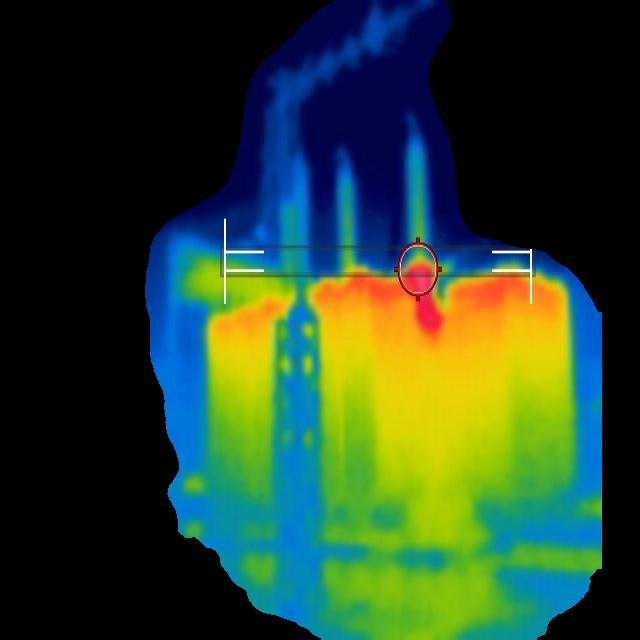Loose Joint F: (399, 250, 437, 299)
Transformer Overload: (203, 265, 569, 521)
